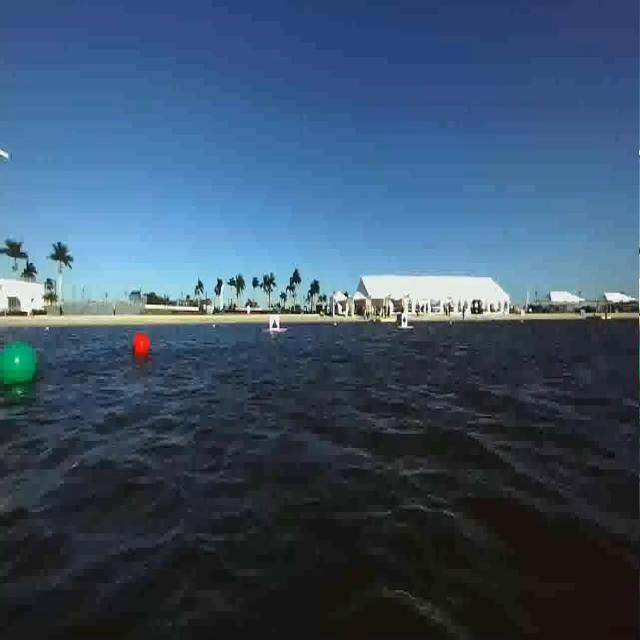green-buoy: (0, 343, 38, 386)
red-buoy: (134, 334, 151, 360)
